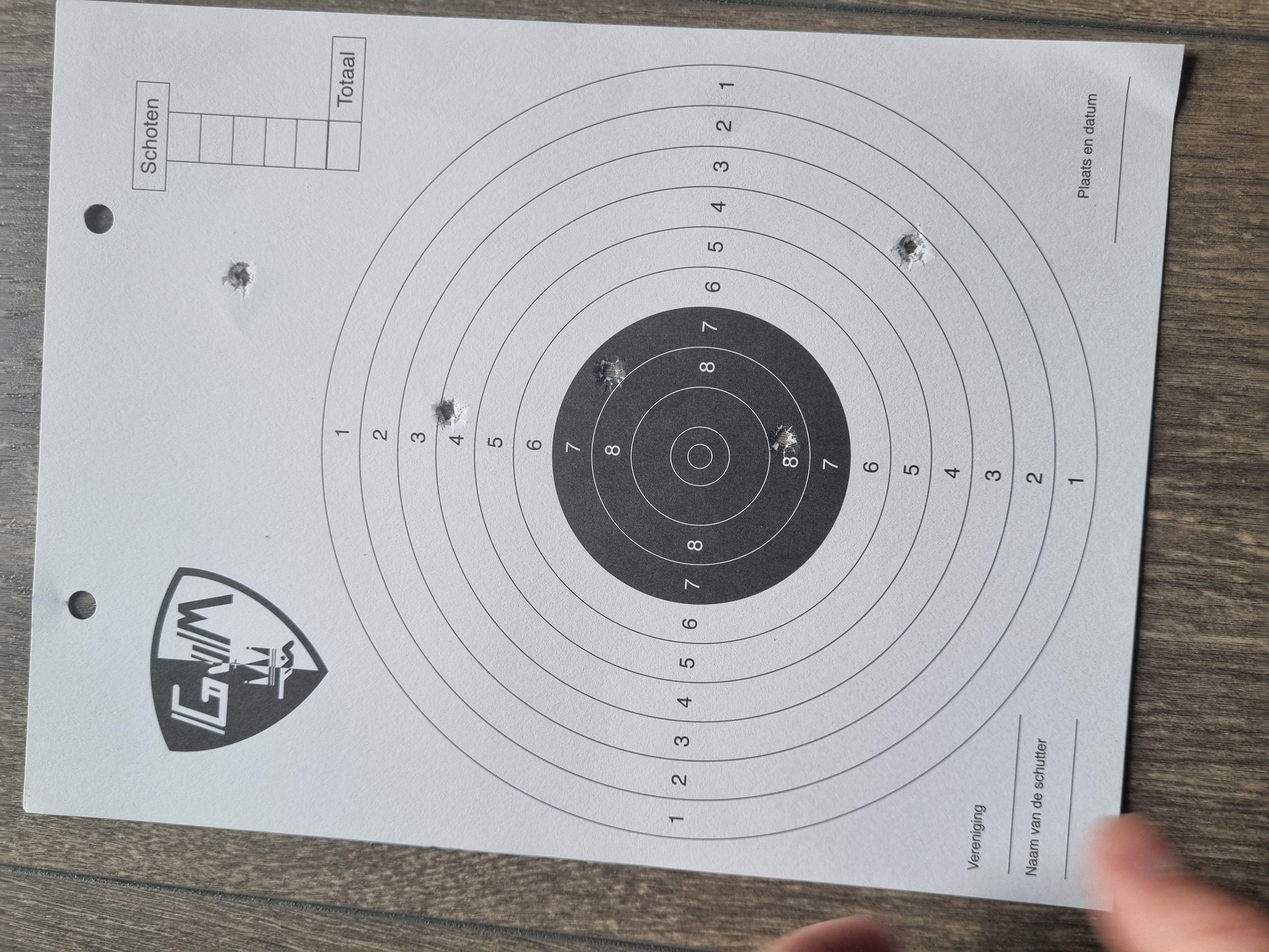hole: (909, 668, 965, 699), (871, 164, 928, 192), (698, 323, 744, 349), (748, 445, 793, 470), (658, 576, 703, 598)
